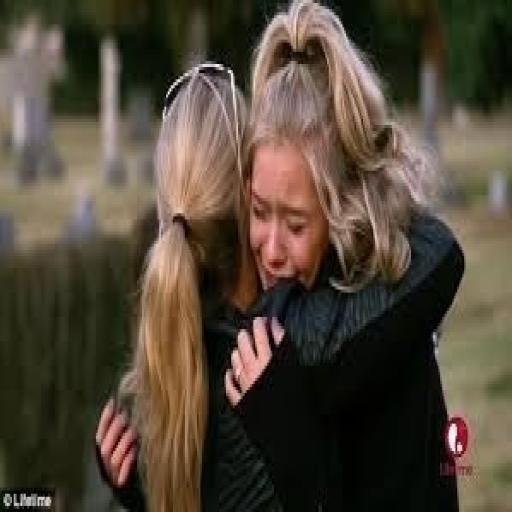hugging: (92, 0, 468, 509)
